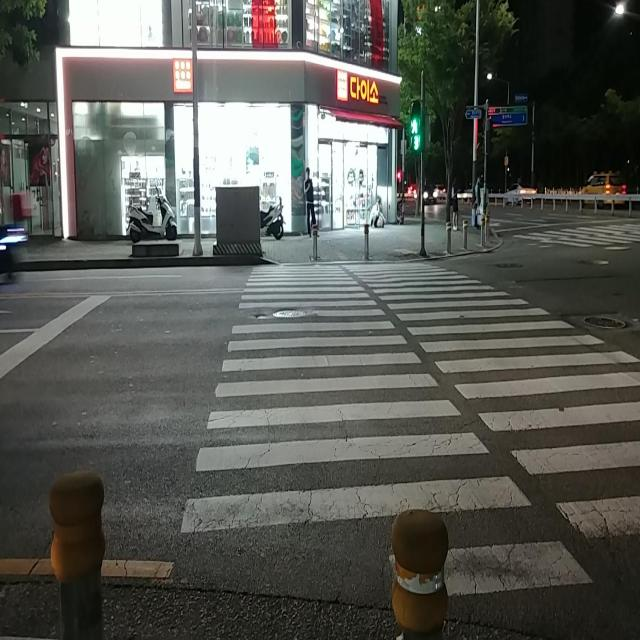초록불: (409, 102, 421, 152)
횡단보도: (181, 256, 640, 598)
